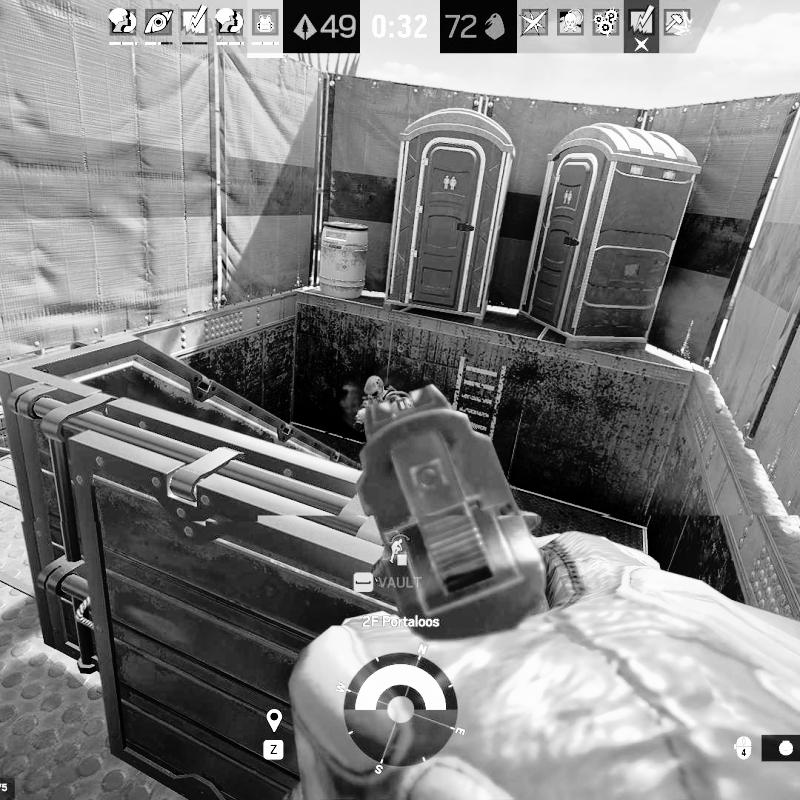Character: (352, 373, 416, 437)
Head: (363, 376, 386, 403)
